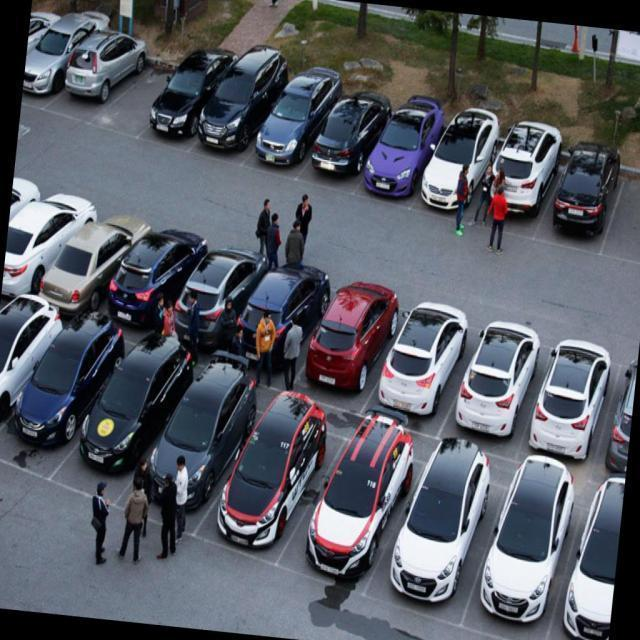space-empty: (86, 43, 179, 155), (602, 165, 640, 270)
space-occupied: (192, 385, 351, 555), (382, 436, 515, 619), (56, 335, 200, 504), (281, 420, 427, 583), (458, 459, 586, 640), (132, 366, 271, 531), (0, 309, 125, 471), (160, 218, 264, 367), (224, 245, 332, 386), (368, 296, 476, 434), (439, 313, 543, 456), (292, 271, 400, 407), (99, 204, 203, 343), (544, 474, 625, 640), (36, 192, 135, 327), (136, 35, 232, 172), (522, 327, 616, 459), (1, 179, 92, 305), (187, 51, 285, 166), (42, 25, 143, 136), (414, 104, 503, 224), (250, 56, 338, 177), (476, 114, 562, 237), (21, 0, 110, 114), (300, 80, 385, 199), (362, 89, 442, 206), (535, 145, 616, 258), (593, 349, 638, 488)
